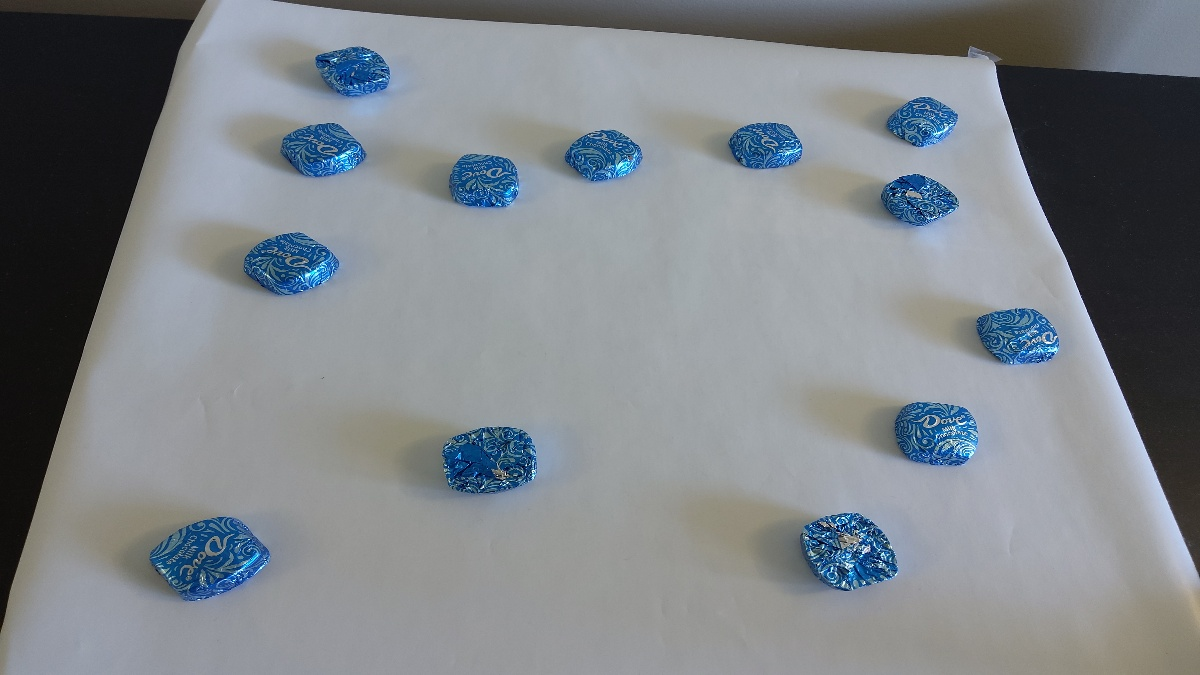chocolate_blue: (147, 497, 277, 610), (433, 413, 548, 503), (878, 388, 984, 474), (797, 511, 900, 595), (237, 225, 341, 306), (969, 300, 1061, 375), (273, 116, 375, 183), (879, 172, 968, 243), (563, 122, 645, 191), (883, 88, 961, 156), (729, 111, 809, 176), (447, 147, 524, 212), (315, 39, 396, 100)
